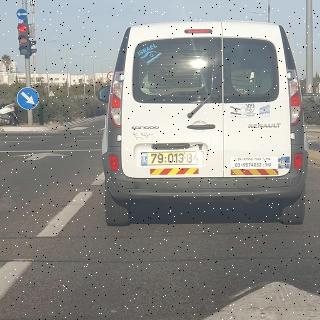LicensePlate: (149, 152, 204, 164)
